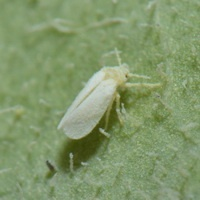insect: (58, 64, 128, 138)
